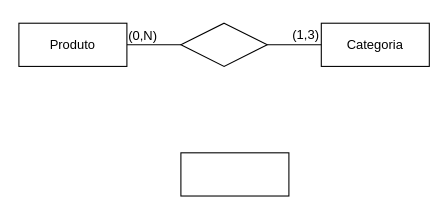
Image size: 448x215. Some labels were removed from this diagram. The centre of each missing label's shape, as x and y in pixels:
"Tem" belongs at point 223,44.
"Usuário" belongs at point 234,174.
